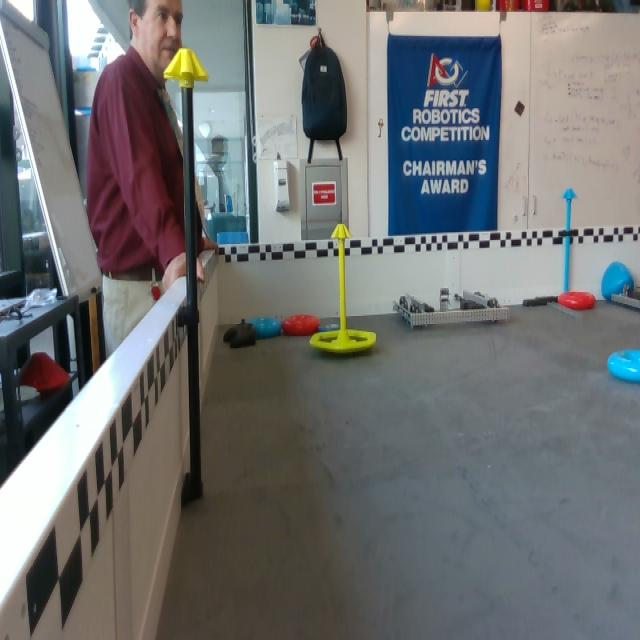Blue-Ring: (607, 350, 639, 383), (250, 317, 282, 339), (574, 311, 586, 311)
Mobile-Goal: (307, 222, 378, 353)
Red-Ring: (283, 315, 320, 337), (558, 292, 597, 312)
Yellow-Stake-Head: (164, 48, 209, 84), (331, 223, 351, 240)
zblue-Stake-Head: (561, 189, 578, 199)
